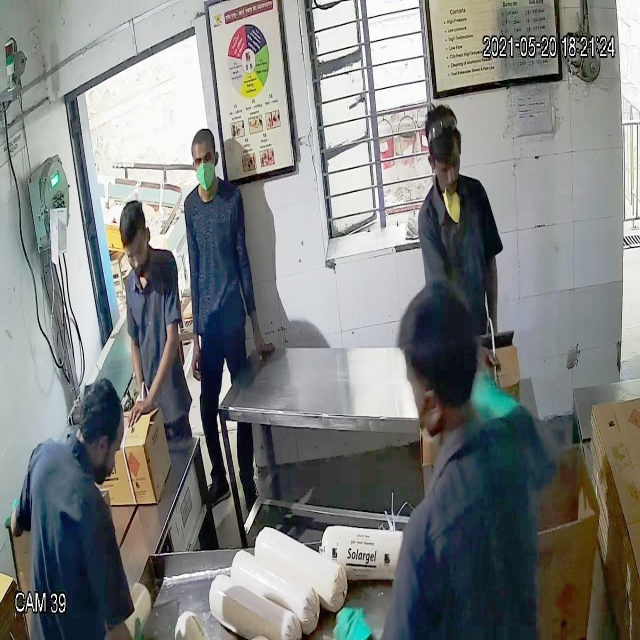Gafas: (120, 242, 148, 268)
Sin_gafas: (431, 152, 466, 180), (188, 148, 220, 172)
